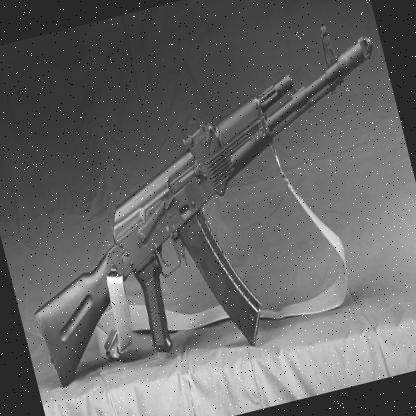rifle: (0, 27, 416, 393)
